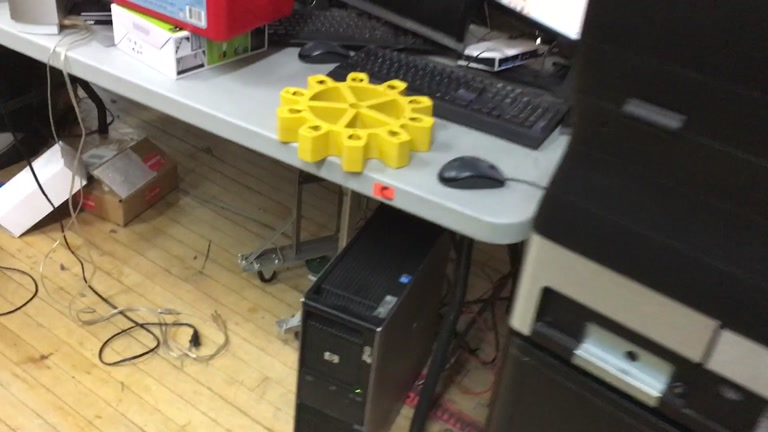gear: (277, 72, 436, 177)
